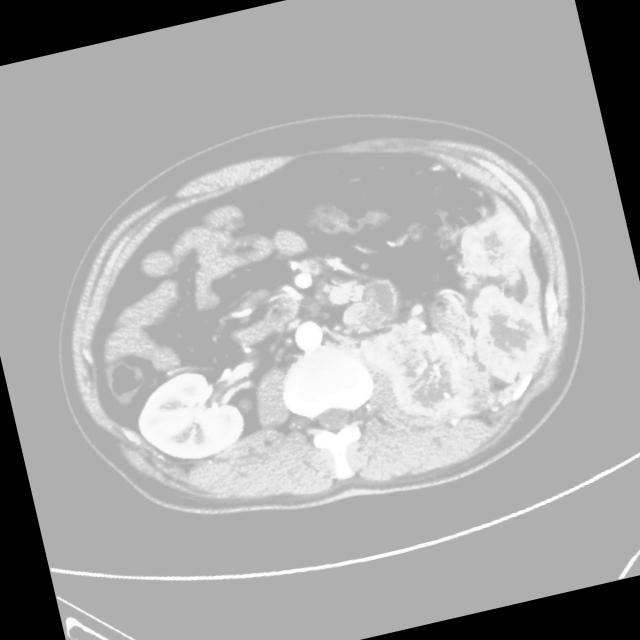TUMOR: (57, 132, 552, 463)
